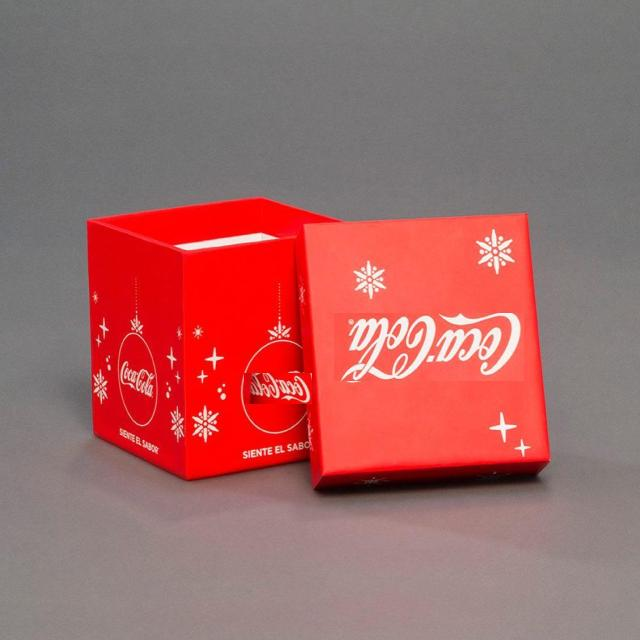coca-cola: (334, 313, 524, 381), (244, 373, 312, 404), (117, 358, 159, 400)
